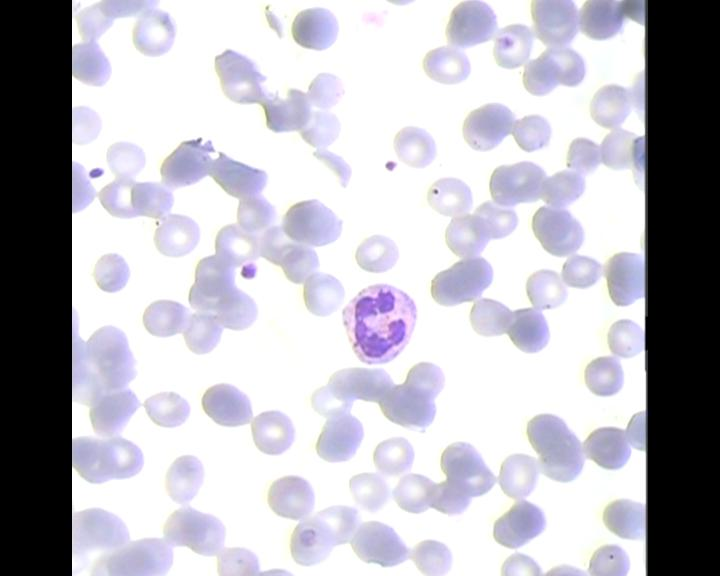neut: (334, 283, 418, 366)
